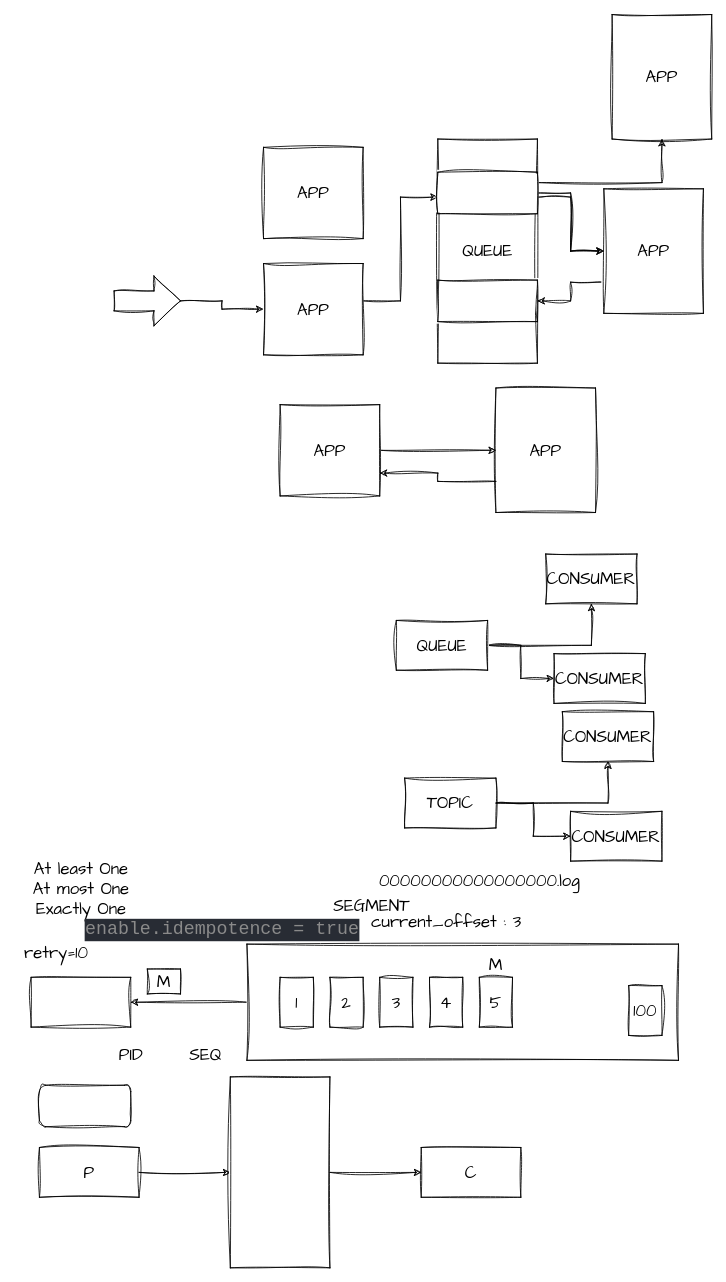
This 726x1282 diagram has some shape labels left out. The shapes that lost their labels are listed below. From the top down, each one's centre as x and y in pixels, then its label:
At (487,192): "Request".
At (487,300): "Response".
At (80,1001): "PRODUCER".
At (85,1105): "Message".
At (279,1172): "KAFKA".
